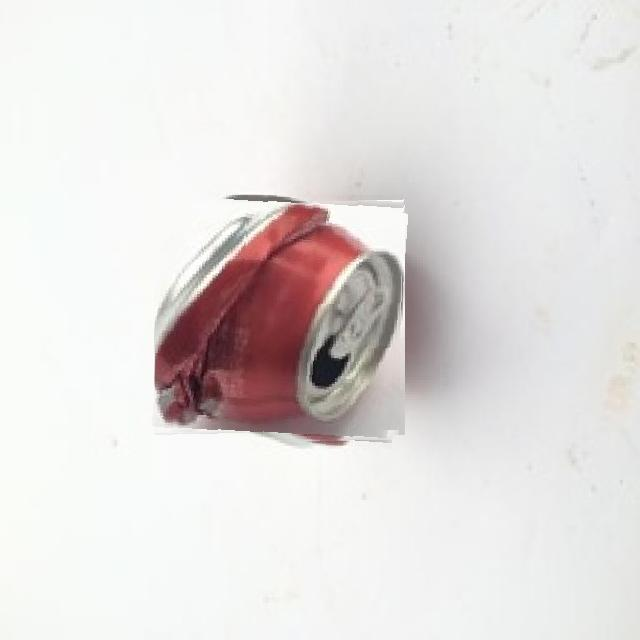recyclable: (155, 195, 404, 445)
